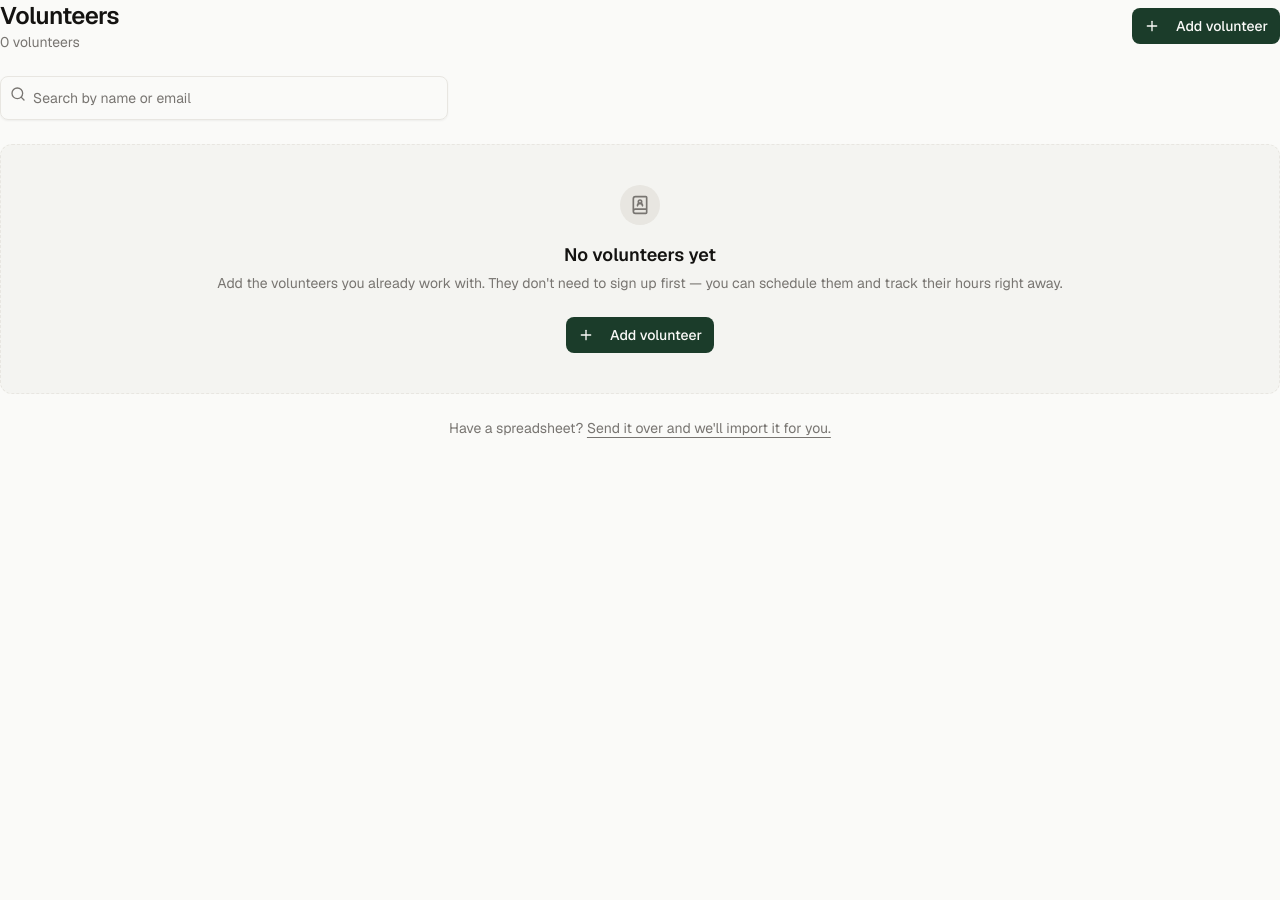
VolunteersPage states › the empty state's action opens the page's ONE add form (T25)
Click the button with test id "empty-roster-add-volunteer": (640, 335) [566,317,714,353]
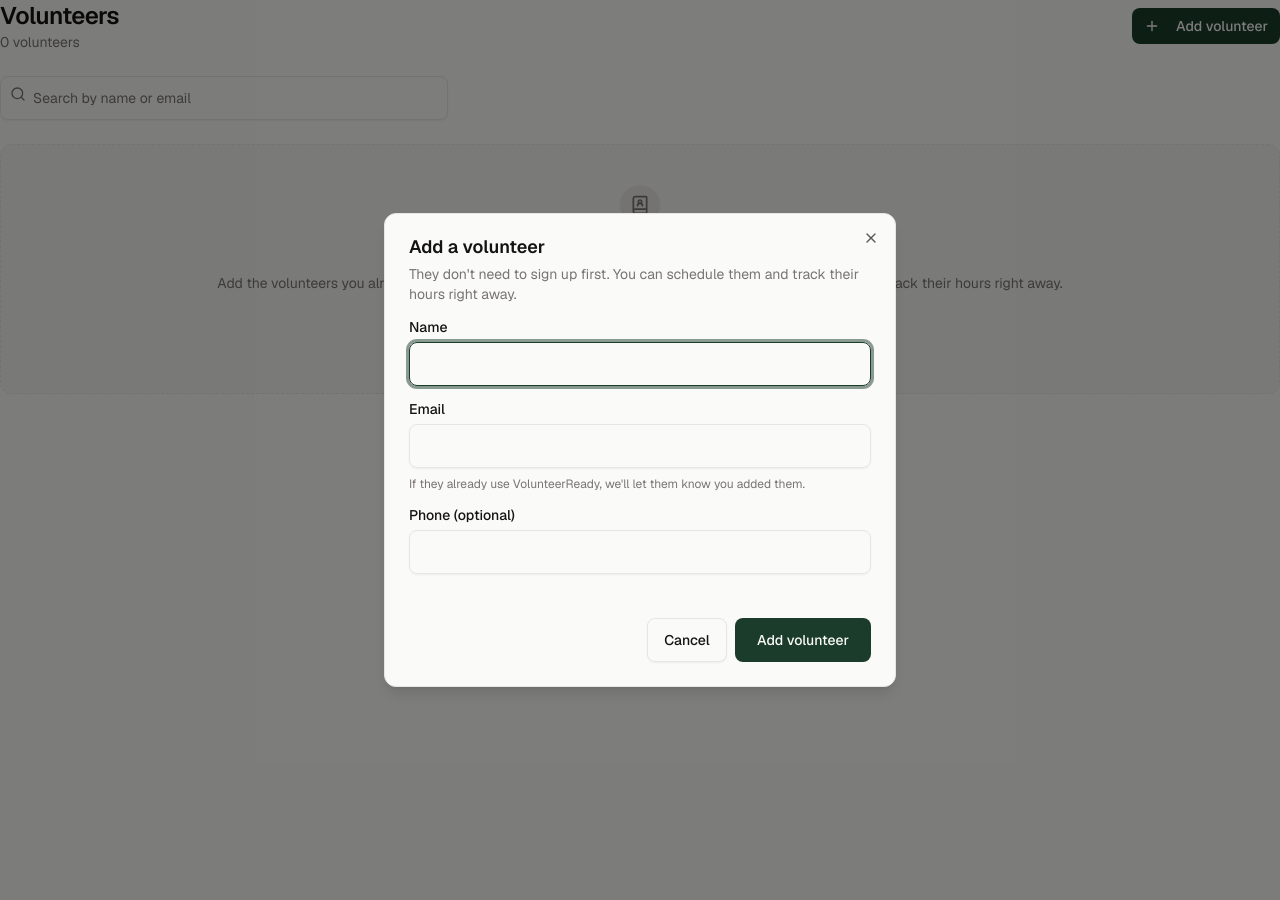
Expected: the dialog is shown, [384,213,896,687]
Expected: the field labelled "Name" is shown, [409,342,871,386]
